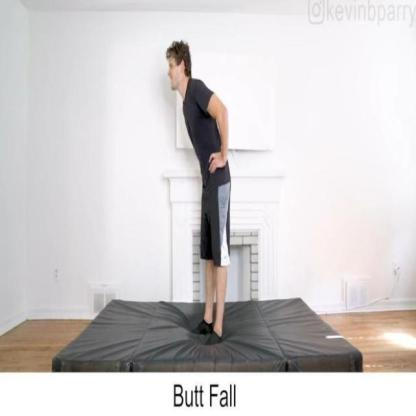person: (157, 32, 245, 337)
